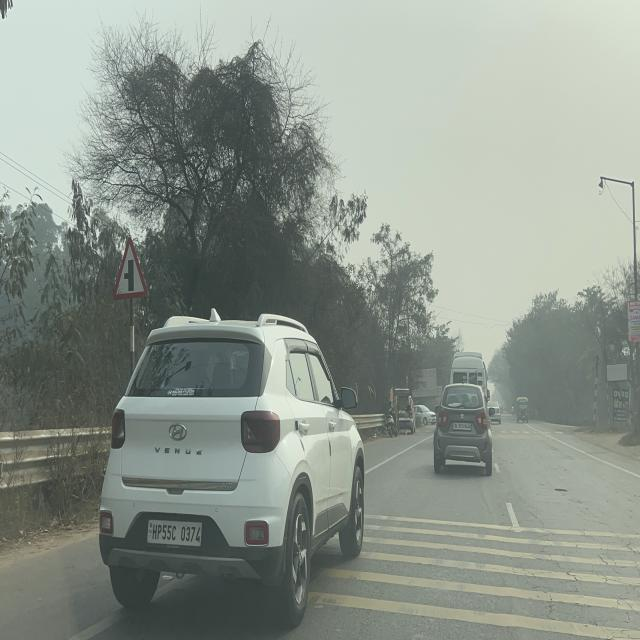SIDE_ROAD_LEFT: (109, 232, 149, 298)
